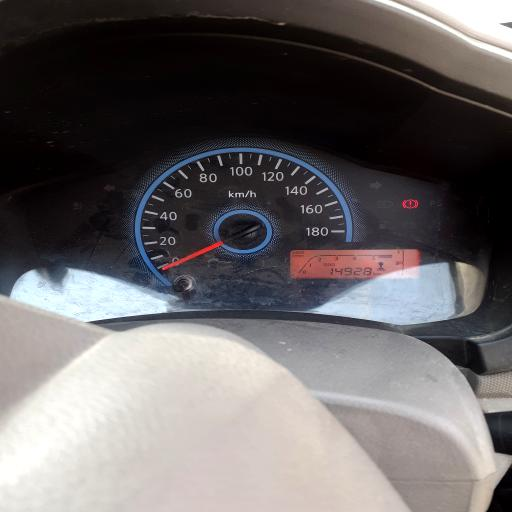brake_system_fault: (402, 199, 418, 209)
